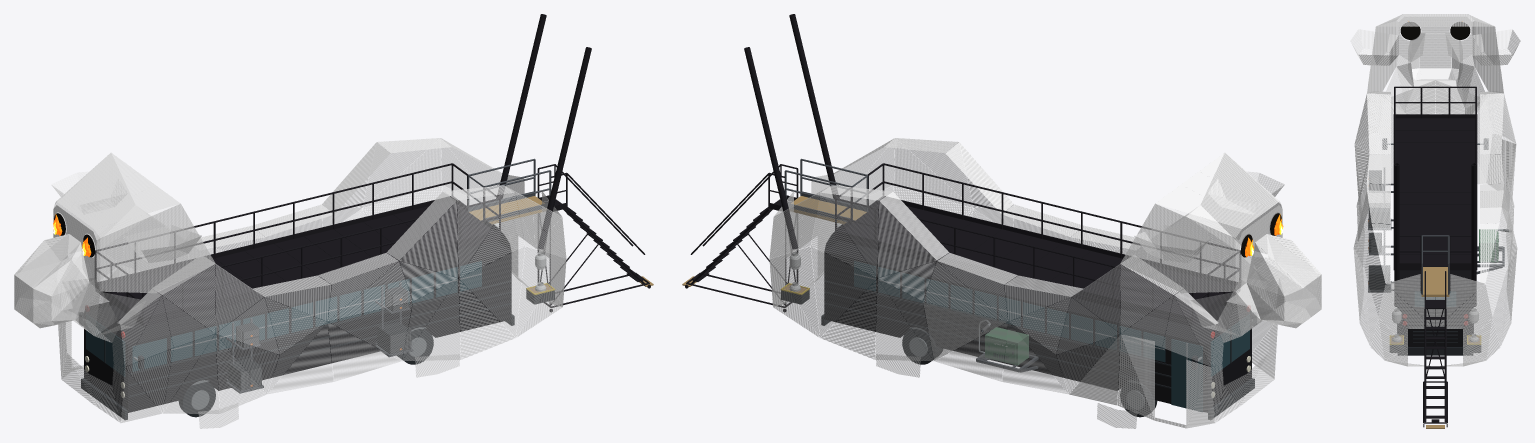
File: baaabs-panelized-v24.glb
3 views of the same model, side by side, from view 1: azimuth 30°, elevation 25°; view 2: azimuth 150°, elevation 25°; view 3: azimuth 270°, elevation 25° (orthographic). The views are drawn at different scales.
Visible parts, largest first — view 1: Bus__Body_96in_wide, B-D-043 | Driver Skirt 02 a, B-D-038 | Driver Flank 07 b, B-D-036 | Driver Flank 06 b, B-D-047 | Driver Skirt 04 a, B-D-037 | Driver Flank 07 a, B-D-045 | Driver Skirt 03 a, B-D-033 | Driver Flank 05 a, B-D-028 | Driver Flank 02 b, H-D-014 | Driver head side upper, H-D-001 | Driver continuous side, H-D-016 | Driver head side upper · section 2 (+87 smaller); view 2: Bus__Body_96in_wide, B-P-046 | Passenger Flank 07 b, B-P-044 | Passenger Flank 06 b, B-P-055 | Passenger Skirt 04 a, Bus__Entrance_door, B-P-045 | Passenger Flank 07 a, B-P-041 | Passenger Flank 05 a, B-P-036 | Passenger Flank 02 b, H-P-014 | Passenger head side upper, B-P-053 | Passenger Skirt 03 a, H-P-001 | Passenger continuous side, H-P-017 | Passenger head side upper · section 2 (+91 smaller); view 3: Bus__Body_96in_wide, B-P-021 | Passenger Crown 03 a, B-D-013 | Driver Crown 03 a, Bus__Rear_engine_hatch, Dancefloor_section_01, Dancefloor_section_02, Dancefloor_section_03, Dancefloor_section_04, B-D-059 | Driver Rear surround 06 a, B-P-015 | Passenger Rear surround 05 a, Dancefloor_section_06, Dancefloor_section_09 (+109 smaller).
Part boxes in pixels (x1=…): Bus__Body_96in_wide: x1=84, y1=240, x2=511, y2=412; B-D-043 | Driver Skirt 02 a: x1=163, y1=335, x2=219, y2=413; B-D-038 | Driver Flank 07 b: x1=457, y1=193, x2=514, y2=276; B-D-036 | Driver Flank 06 b: x1=399, y1=201, x2=458, y2=277; B-D-047 | Driver Skirt 04 a: x1=268, y1=322, x2=333, y2=393; B-D-037 | Driver Flank 07 a: x1=459, y1=194, x2=524, y2=277; B-D-045 | Driver Skirt 03 a: x1=215, y1=335, x2=265, y2=413; B-D-033 | Driver Flank 05 a: x1=329, y1=261, x2=412, y2=320; B-D-028 | Driver Flank 02 b: x1=163, y1=264, x2=215, y2=332; H-D-014 | Driver head side upper: x1=100, y1=214, x2=156, y2=259; H-D-001 | Driver continuous side: x1=100, y1=256, x2=150, y2=292; H-D-016 | Driver head side upper · section 2: x1=156, y1=203, x2=207, y2=253; Bus__Body_96in_wide: x1=824, y1=240, x2=1251, y2=412; B-P-046 | Passenger Flank 07 b: x1=821, y1=193, x2=878, y2=276; B-P-044 | Passenger Flank 06 b: x1=877, y1=201, x2=936, y2=277; B-P-055 | Passenger Skirt 04 a: x1=1002, y1=322, x2=1067, y2=393; Bus__Entrance_door: x1=1171, y1=339, x2=1202, y2=411; B-P-045 | Passenger Flank 07 a: x1=811, y1=194, x2=876, y2=277; B-P-041 | Passenger Flank 05 a: x1=923, y1=261, x2=1006, y2=320; B-P-036 | Passenger Flank 02 b: x1=1120, y1=264, x2=1172, y2=332; H-P-014 | Passenger head side upper: x1=1179, y1=214, x2=1235, y2=259; B-P-053 | Passenger Skirt 03 a: x1=1069, y1=334, x2=1120, y2=405; H-P-001 | Passenger continuous side: x1=1185, y1=256, x2=1235, y2=292; H-P-017 | Passenger head side upper · section 2: x1=1128, y1=203, x2=1179, y2=253; Bus__Body_96in_wide: x1=1397, y1=270, x2=1473, y2=346; B-P-021 | Passenger Crown 03 a: x1=1480, y1=93, x2=1503, y2=154; B-D-013 | Driver Crown 03 a: x1=1367, y1=93, x2=1390, y2=154; Bus__Rear_engine_hatch: x1=1408, y1=321, x2=1462, y2=346; Dancefloor_section_01: x1=1393, y1=118, x2=1477, y2=130; Dancefloor_section_02: x1=1393, y1=130, x2=1477, y2=142; Dancefloor_section_03: x1=1393, y1=143, x2=1477, y2=155; Dancefloor_section_04: x1=1393, y1=155, x2=1477, y2=167; B-D-059 | Driver Rear surround 06 a: x1=1386, y1=274, x2=1435, y2=326; B-P-015 | Passenger Rear surround 05 a: x1=1435, y1=274, x2=1484, y2=326; Dancefloor_section_06: x1=1393, y1=180, x2=1477, y2=192; Dancefloor_section_09: x1=1393, y1=217, x2=1477, y2=229.
Size of the model in its own units: 19.95 by 8.42 by 5.52.
Materials: 232 (206 with a texture image).
